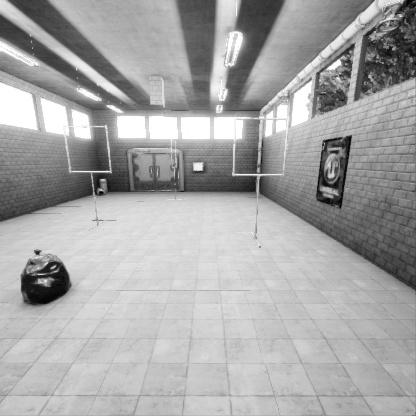gate: (234, 242, 294, 301), (67, 245, 116, 291), (171, 249, 176, 278)
